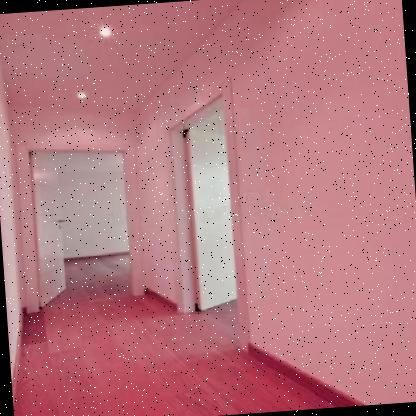door: (164, 83, 261, 371), (23, 142, 139, 324)
